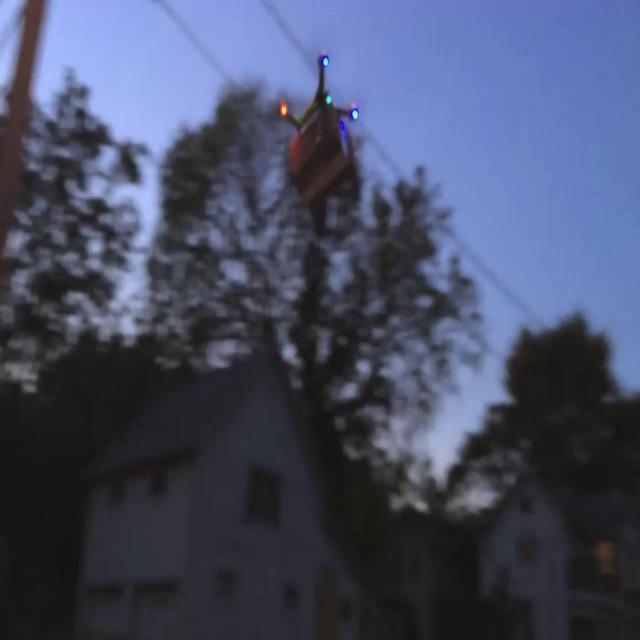UAV: (276, 50, 362, 238)
